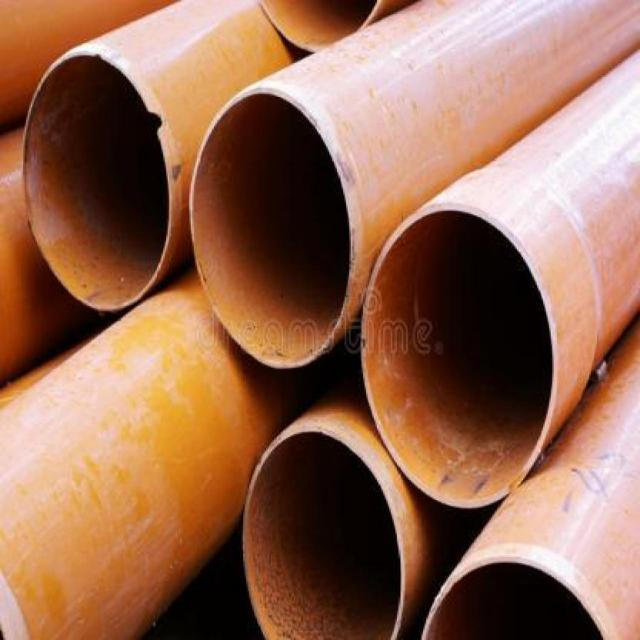pipe: (362, 203, 556, 508), (190, 87, 353, 371), (23, 52, 172, 312), (244, 429, 405, 640), (418, 550, 612, 640)
